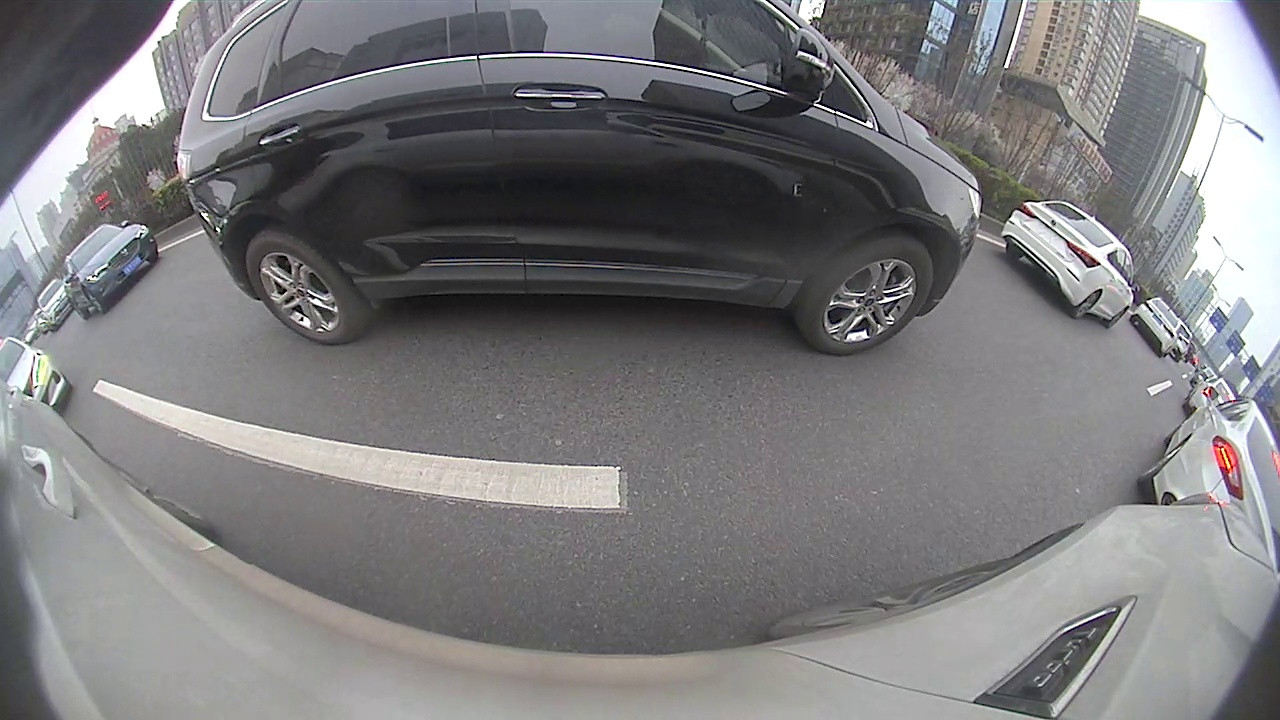car: (175, 3, 984, 358), (1134, 384, 1278, 571), (998, 200, 1141, 330), (62, 218, 160, 322), (1127, 295, 1184, 361)
front: (807, 238, 934, 354)
rear: (247, 230, 360, 346), (1074, 291, 1102, 320)
